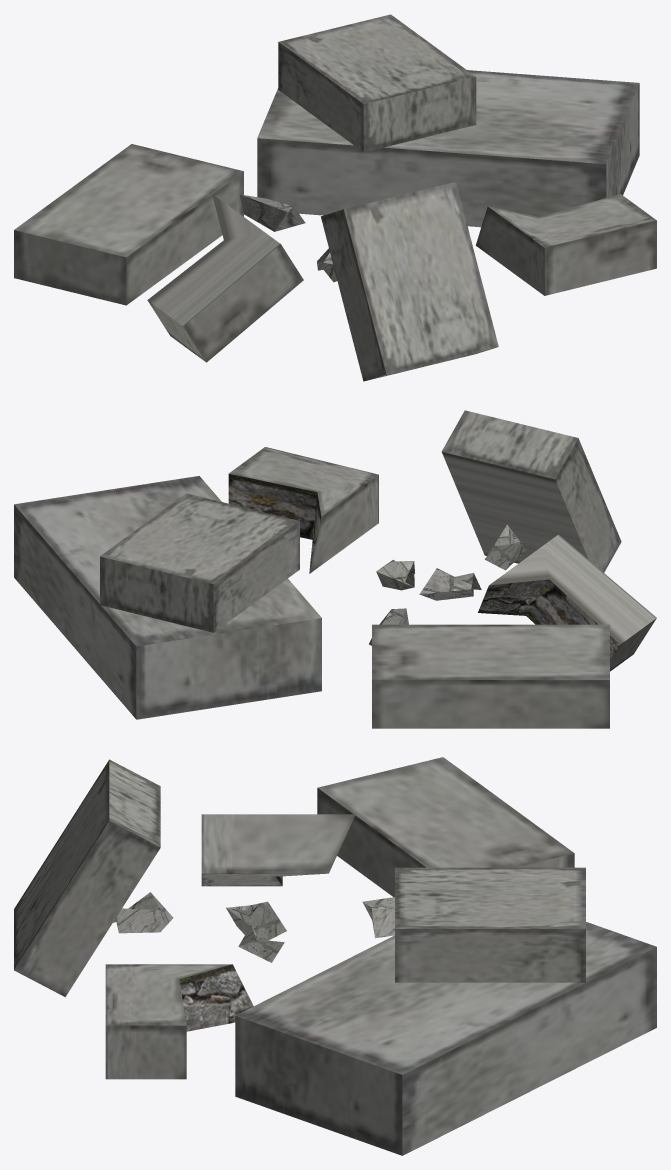
File: PavementRubble02.fbx
3 views of the same model, one above another, from view 1: azimuth 30°, elevation 25°; view 2: azimuth 150°, elevation 25°; view 3: azimuth 270°, elevation 25° (orthographic). The views are drawn at different scales.
Visible parts, largest first — view 1: PavementRubble02; view 2: PavementRubble02; view 3: PavementRubble02.
Boxes of the visible parts, <box> form: PavementRubble02: <box>14,14,656,381</box>; PavementRubble02: <box>14,410,656,728</box>; PavementRubble02: <box>14,757,656,1155</box>.
Size of the model in its own units: 38.63 by 9.74 by 31.66.
